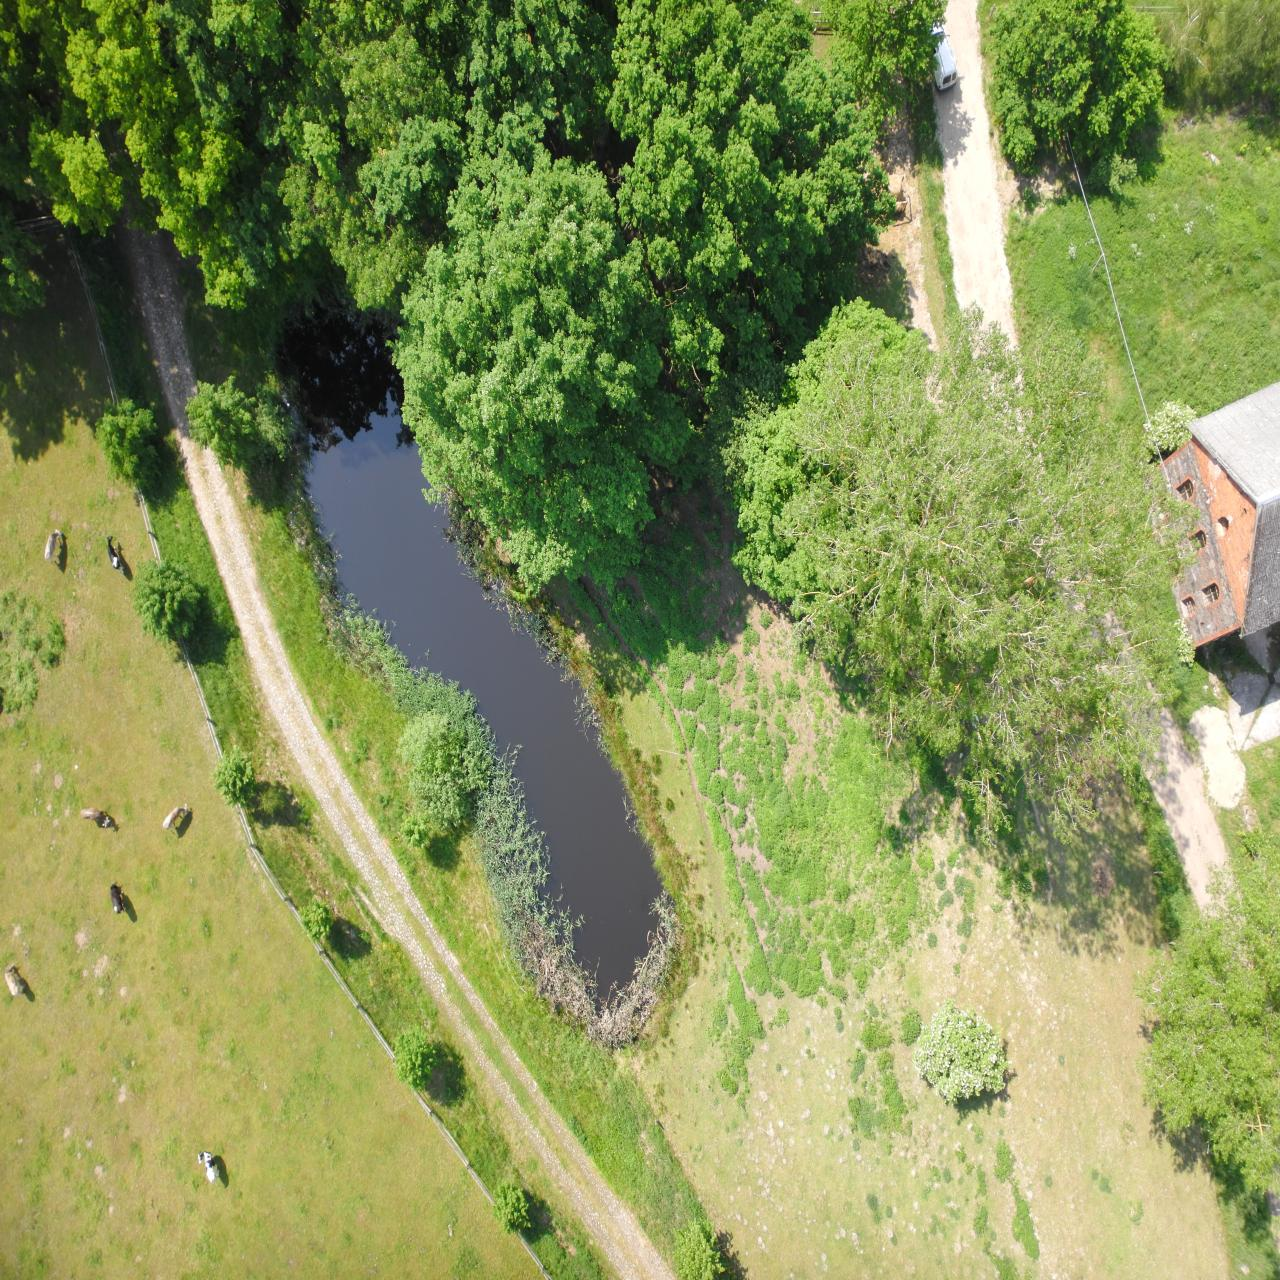cow: (1091, 449, 1117, 477), (1155, 706, 1173, 744), (1169, 451, 1199, 474), (1255, 284, 1274, 318), (1217, 716, 1234, 751), (1061, 97, 1077, 129), (1153, 366, 1170, 397)
